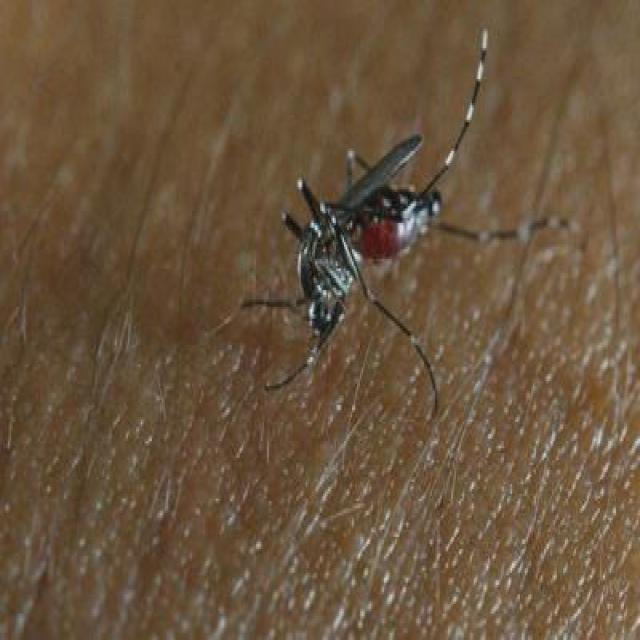body: (304, 161, 441, 328)
insect: (238, 21, 590, 422)
legs: (392, 18, 492, 221), (352, 260, 452, 419)
wings: (327, 135, 424, 239)
